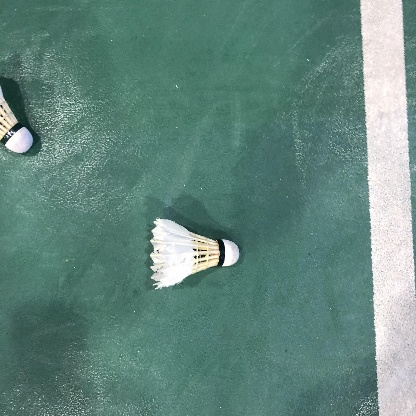ball_single: (150, 219, 240, 289), (0, 84, 33, 153)
